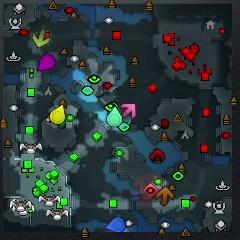p1: (107, 216, 126, 233)
p2: (107, 106, 122, 127)
p3: (37, 54, 55, 70)
p4: (50, 106, 65, 125)
x1: (121, 103, 136, 121)
x2: (32, 30, 49, 48)
x5: (156, 187, 173, 207)
